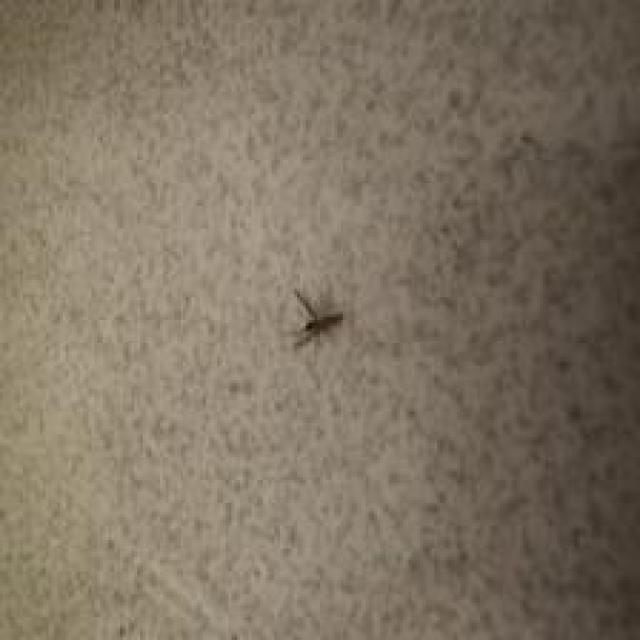Culex: (290, 287, 344, 350)
